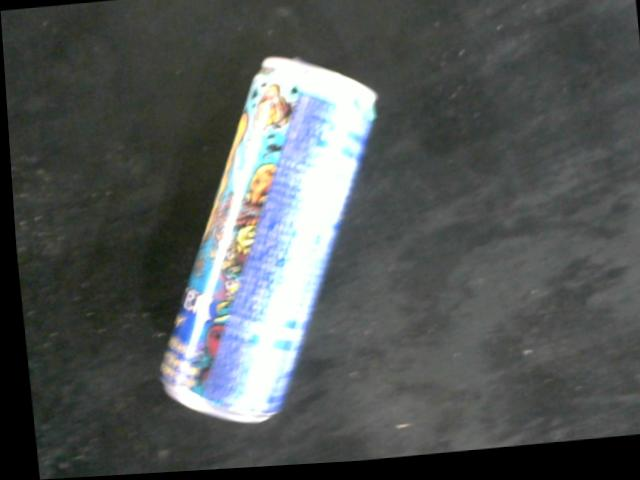can: (150, 57, 381, 428)
